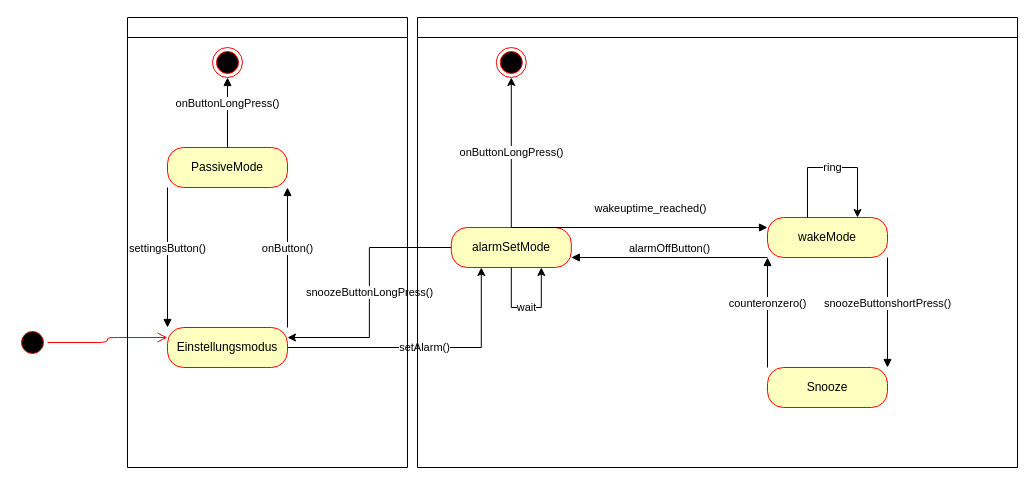
Some shapes in this 1035 by 485 pixel diagram are drawn without their labels. Here are the shapes that lost their labels. From the top down, the box of each, then its label:
(126, 16, 408, 468): Passive
(416, 16, 1018, 468): Active
